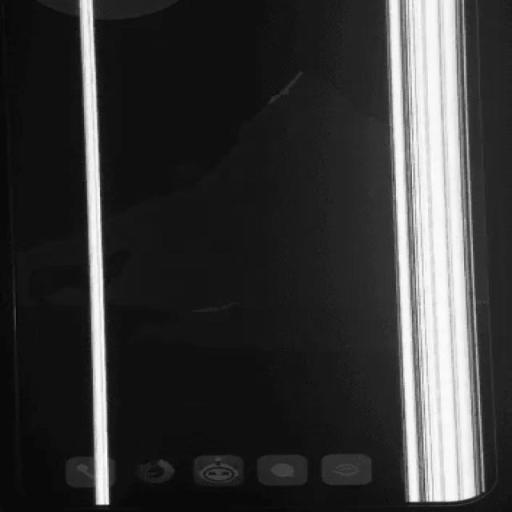phone: (8, 0, 504, 511)
